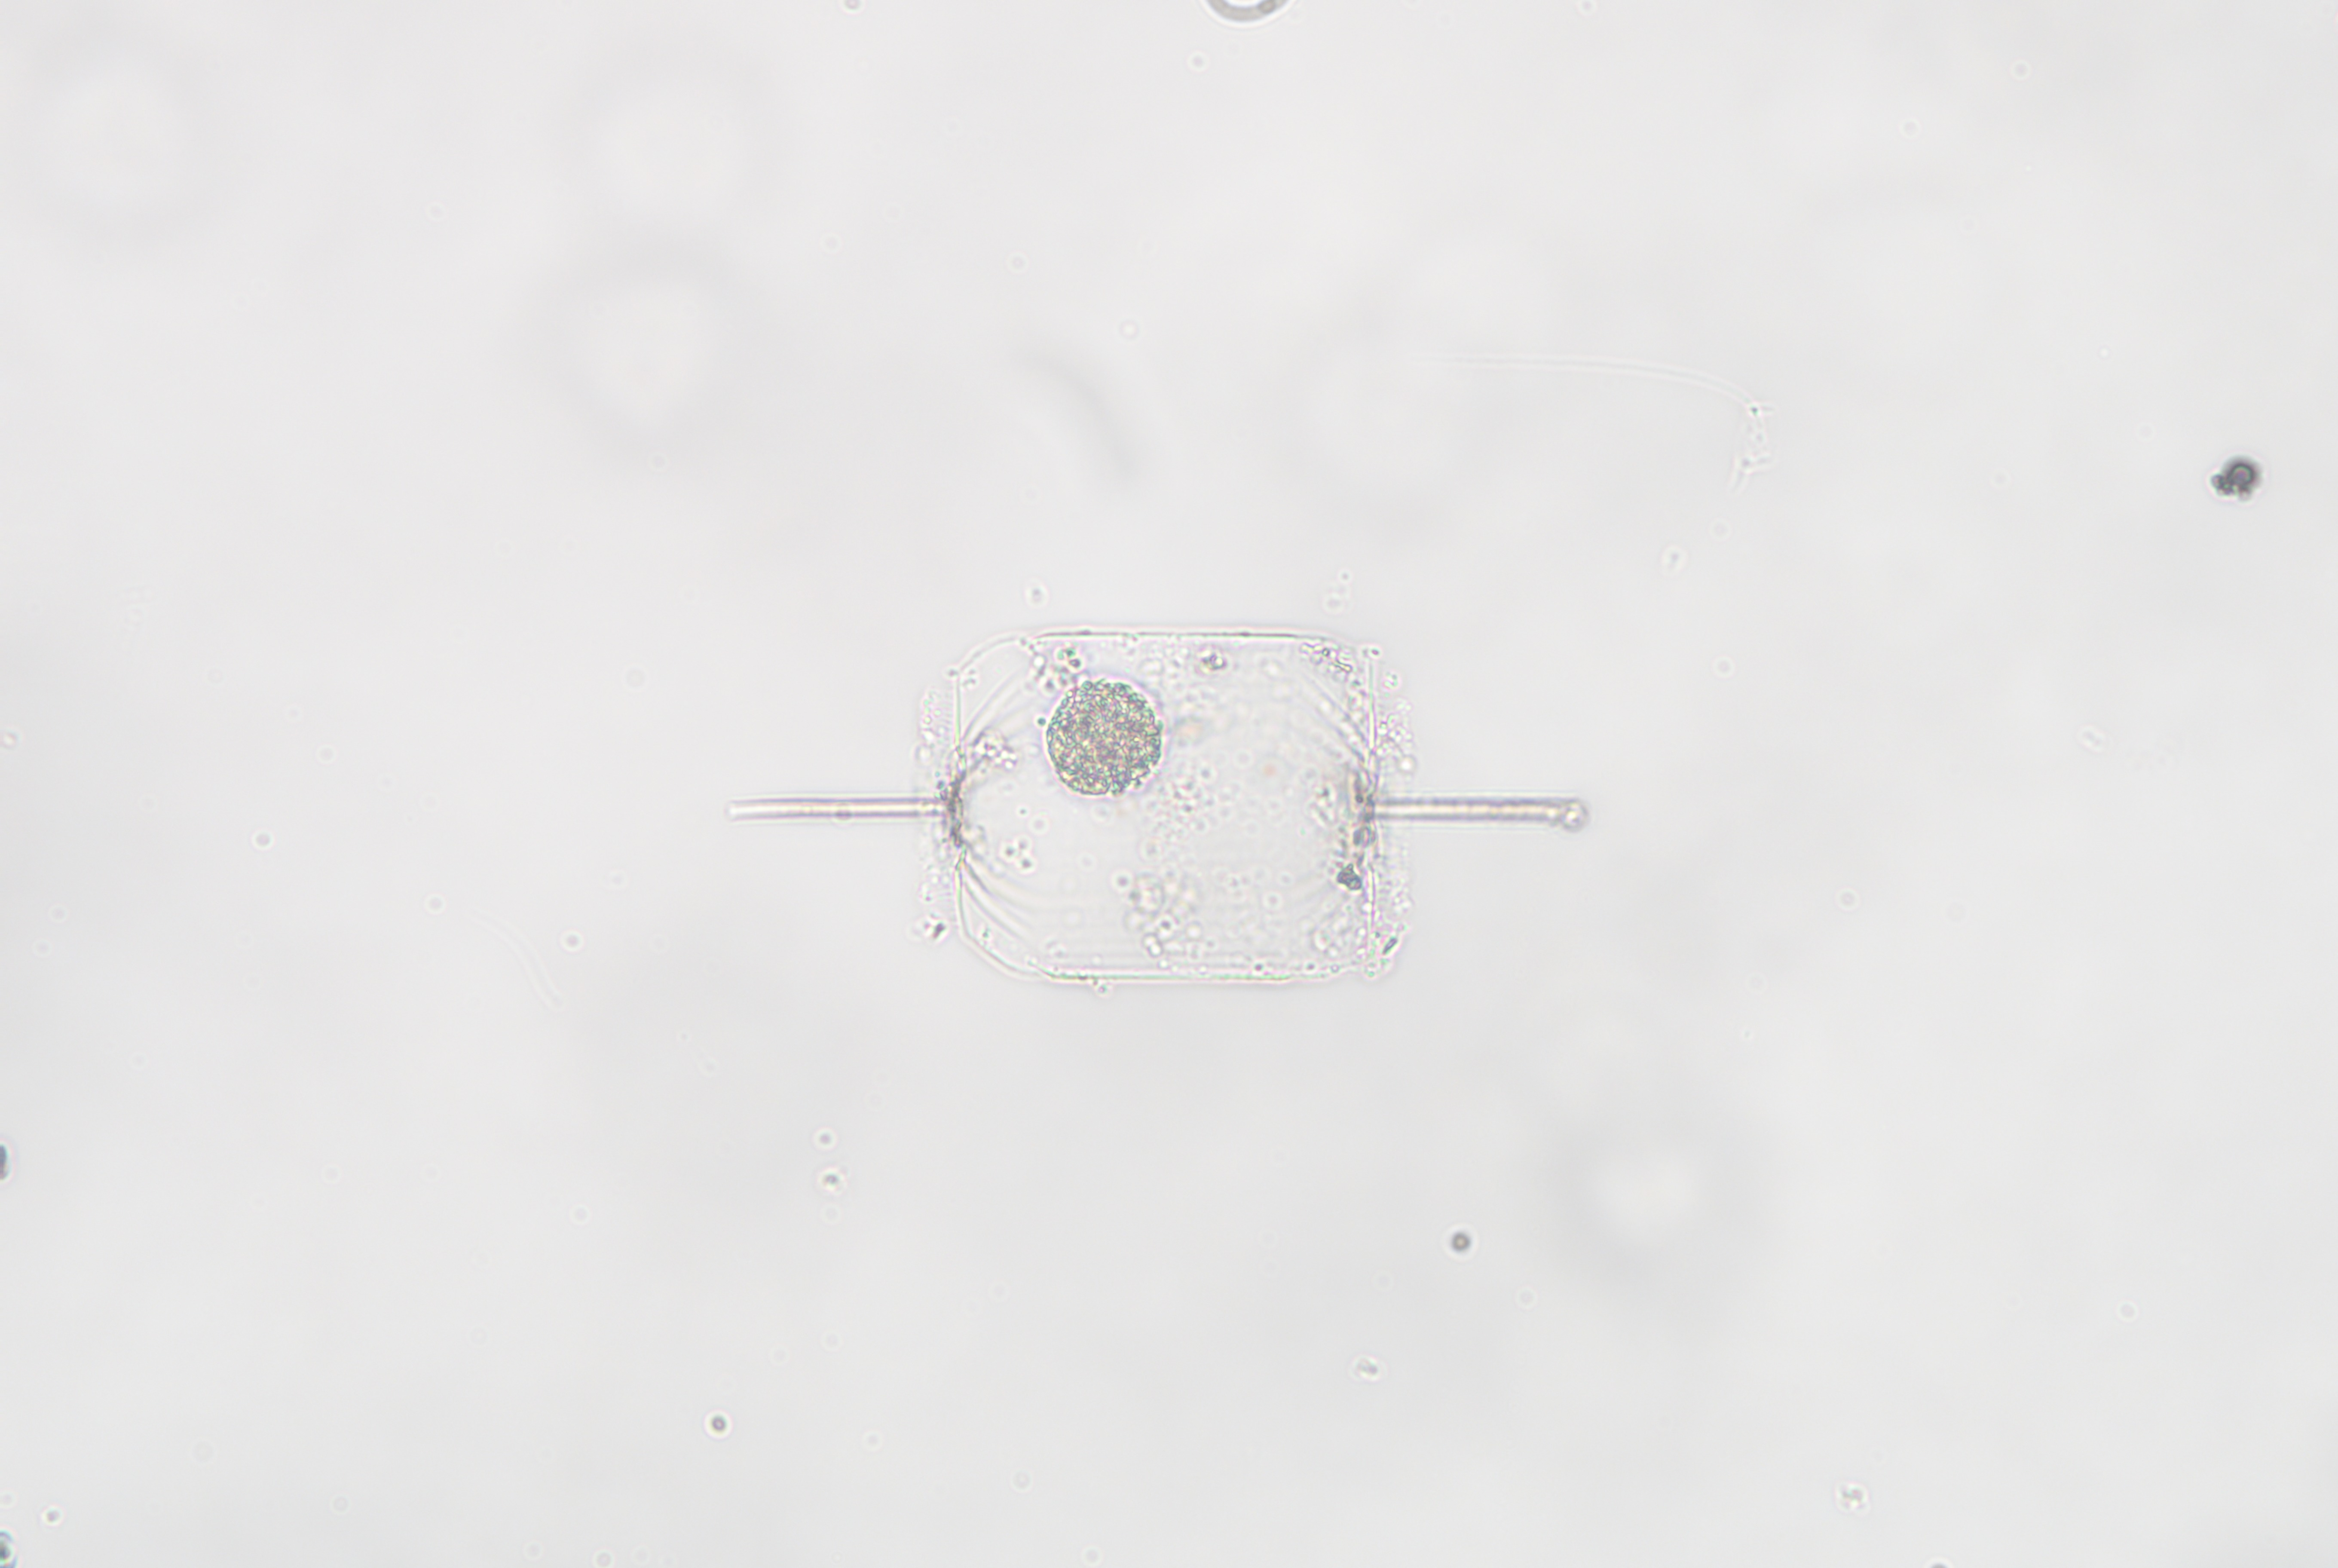ditylum: (683, 570, 1608, 997)
